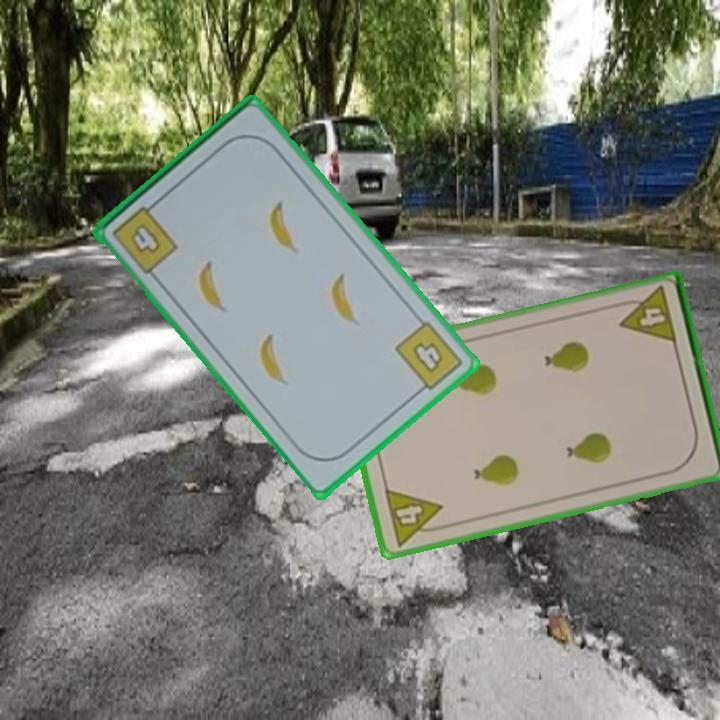4b: (391, 317, 466, 399), (108, 197, 182, 277)
4p: (381, 485, 450, 549), (613, 283, 680, 347)
